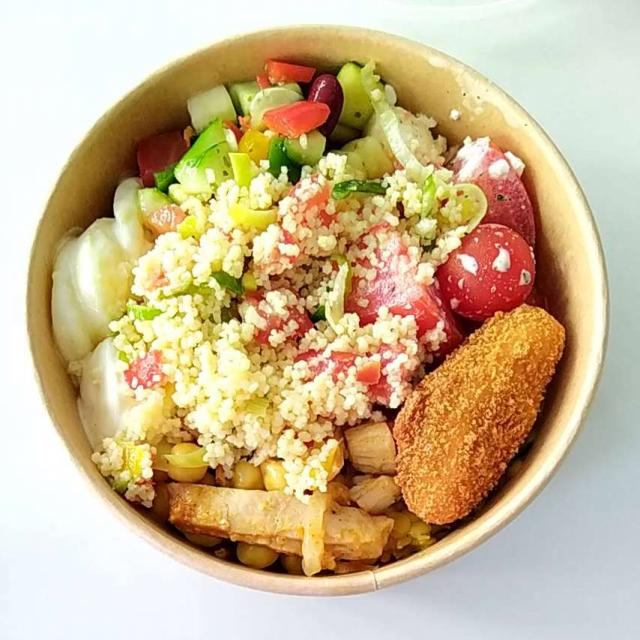beans-kidney: (308, 72, 358, 133)
chickpeas: (161, 445, 399, 568)
potato-salad-with-mayonnaise-yogurt-dressing: (49, 177, 178, 466)
taboule-prepared-with-couscous: (119, 64, 481, 517)
tomato-raw: (238, 134, 538, 411)
